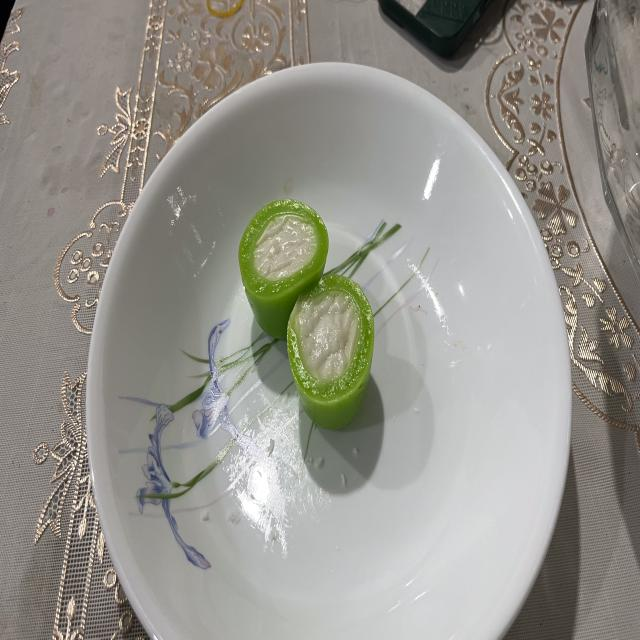nona-manis: (288, 273, 374, 429), (239, 200, 329, 340)
